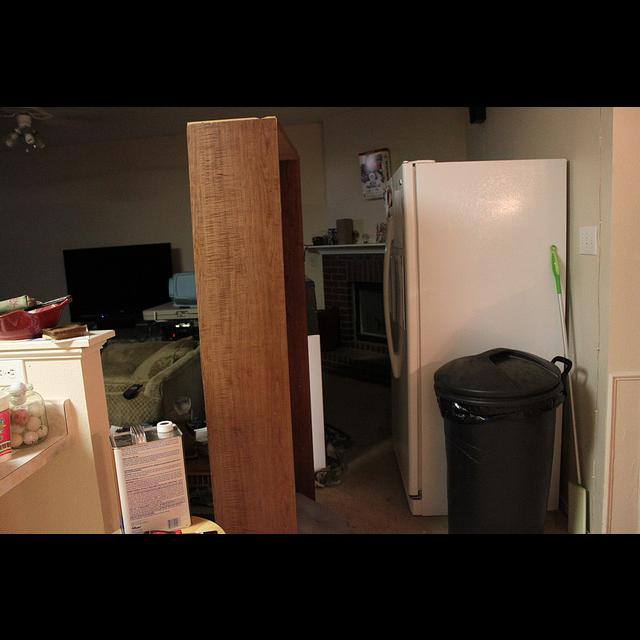Refrigerator: (381, 162, 570, 521)
